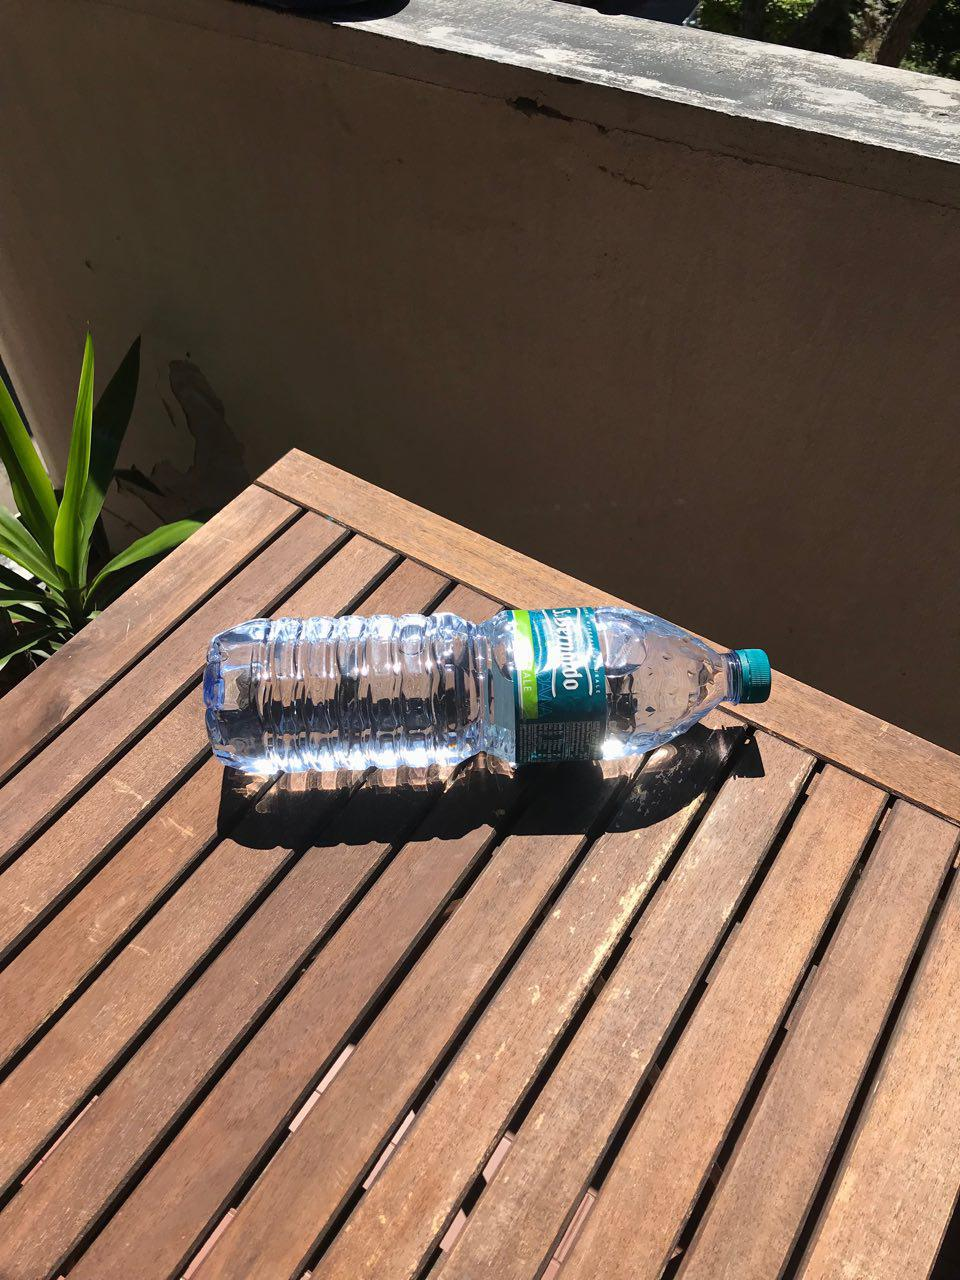san_bernardo: (202, 605, 773, 774)
